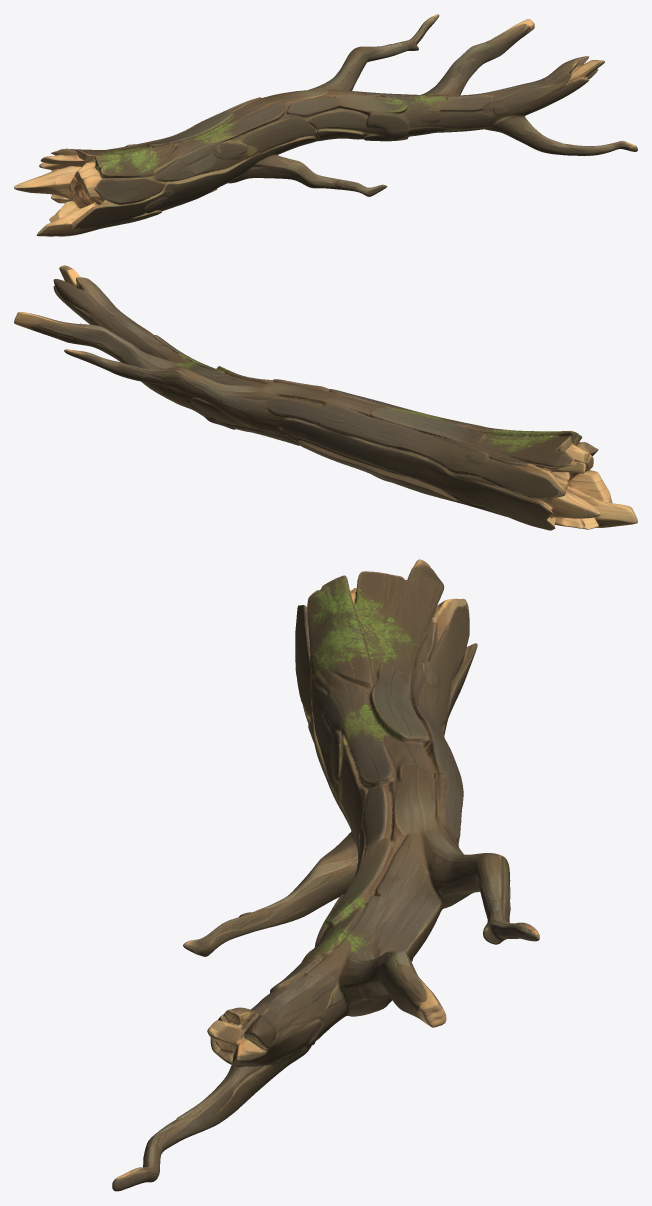
The model's file is Meshy_AI_Lone_Branch_0716112419_texture.fbx.
The picture shows the model from 3 angles, top to bottom: view 1: azimuth 30°, elevation 25°; view 2: azimuth 150°, elevation 25°; view 3: azimuth 270°, elevation 25°; orthographic projection. The views are drawn at different scales.
Visible parts, largest first — view 1: mesh_node; view 2: mesh_node; view 3: mesh_node.
Part boxes in pixels (left/top/right/bottom): mesh_node: left=14, top=14, right=637, bottom=236; mesh_node: left=14, top=265, right=637, bottom=530; mesh_node: left=112, top=559, right=539, bottom=1191.
Size of the model in its own units: 190 by 29.83 by 64.69.
1 material, 1 textured.
